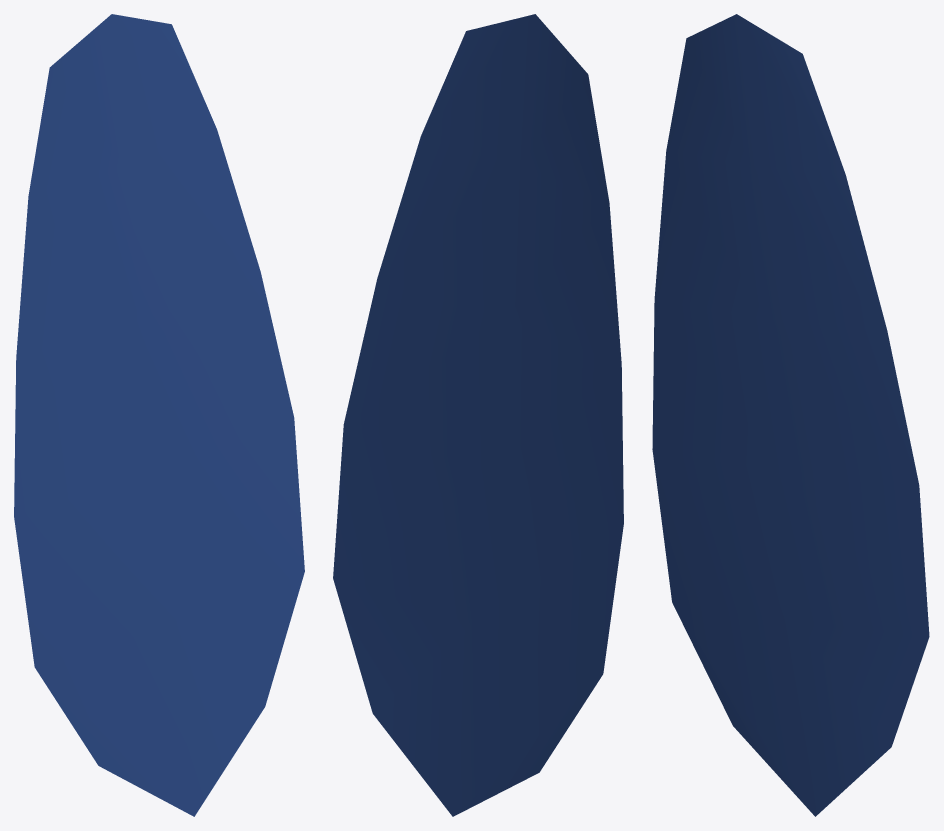
Rendered from lovebird_feather_flight_secondary_007.obj.
3 renders of one model, left to right at view 1: azimuth 30°, elevation 25°; view 2: azimuth 150°, elevation 25°; view 3: azimuth 330°, elevation 25°, orthographic. The views are drawn at different scales.
Parts seen in each view (by area): view 1: feather_flight_secondary_007; view 2: feather_flight_secondary_007; view 3: feather_flight_secondary_007.
Part boxes in pixels (left/top/right/bottom): feather_flight_secondary_007: left=14, top=14, right=304, bottom=816; feather_flight_secondary_007: left=333, top=14, right=623, bottom=816; feather_flight_secondary_007: left=652, top=14, right=929, bottom=816.
Bounding box in the file's own units: 0.00579 × 0.0156 × 0.00016.
